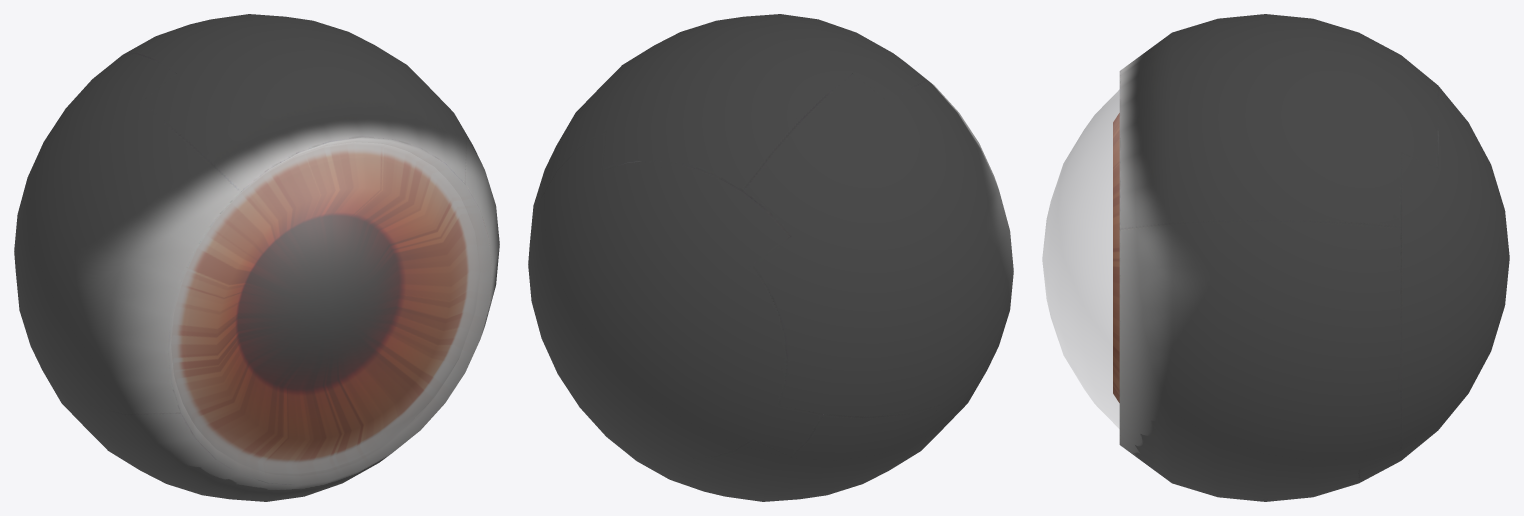
The model's file is eye.glb.
3 views of the same model, side by side, from view 1: azimuth 30°, elevation 25°; view 2: azimuth 150°, elevation 25°; view 3: azimuth 270°, elevation 25° (orthographic).
Parts seen in each view (by area): view 1: Sphere, Sphere.001; view 2: Sphere; view 3: Sphere, Sphere.001.
Part boxes in pixels (x1,y1,x2,y2): Sphere: (14, 14, 499, 501); Sphere.001: (171, 142, 479, 473); Sphere: (528, 14, 1013, 501); Sphere: (1113, 14, 1509, 501); Sphere.001: (1042, 90, 1119, 428).
Bounding box in the file's own units: 2 × 2 × 1.91.
Materials: 2 (1 with a texture image).
